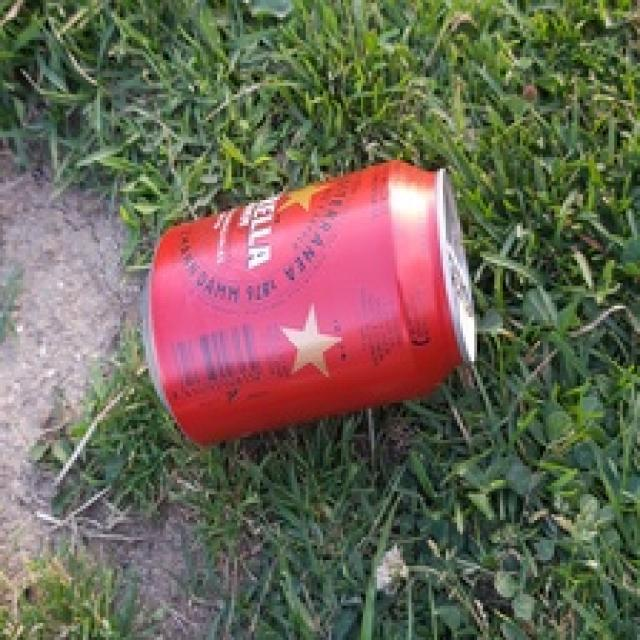recyclable: (141, 160, 477, 449)
